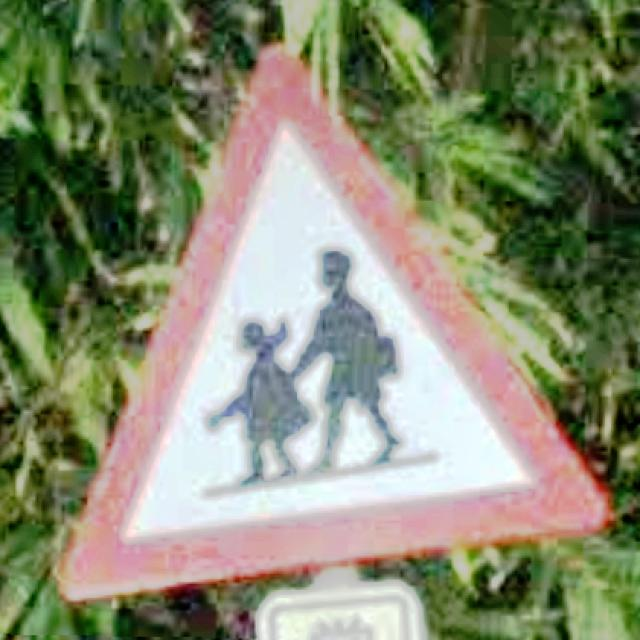childrencross: (61, 48, 605, 598)
